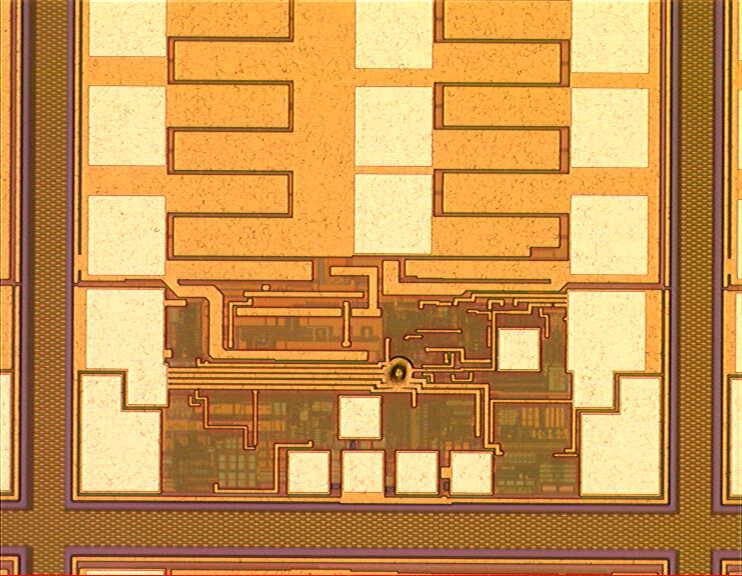BLOCK ETCH: (382, 355, 418, 391)
